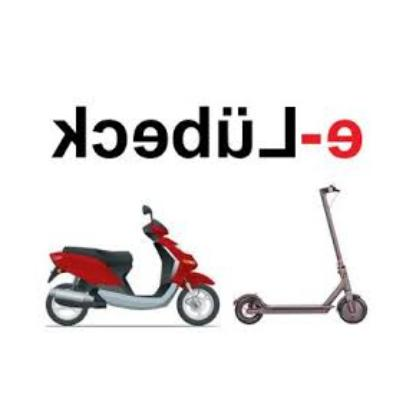bike: (45, 205, 221, 328)
